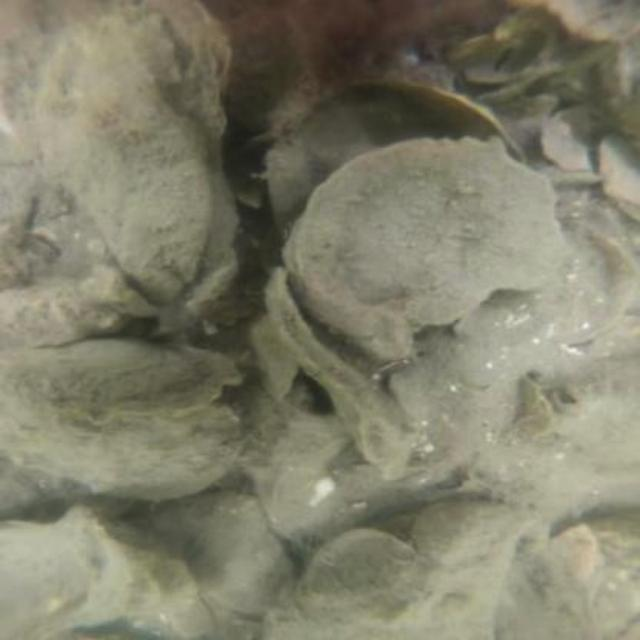Oyster-Closed: (284, 138, 567, 360), (34, 13, 212, 295), (263, 266, 423, 473), (2, 381, 247, 499), (264, 548, 517, 640), (6, 337, 243, 421), (148, 492, 296, 617), (498, 518, 636, 640), (364, 68, 522, 155), (301, 528, 420, 607), (0, 280, 131, 348), (415, 500, 523, 562)
